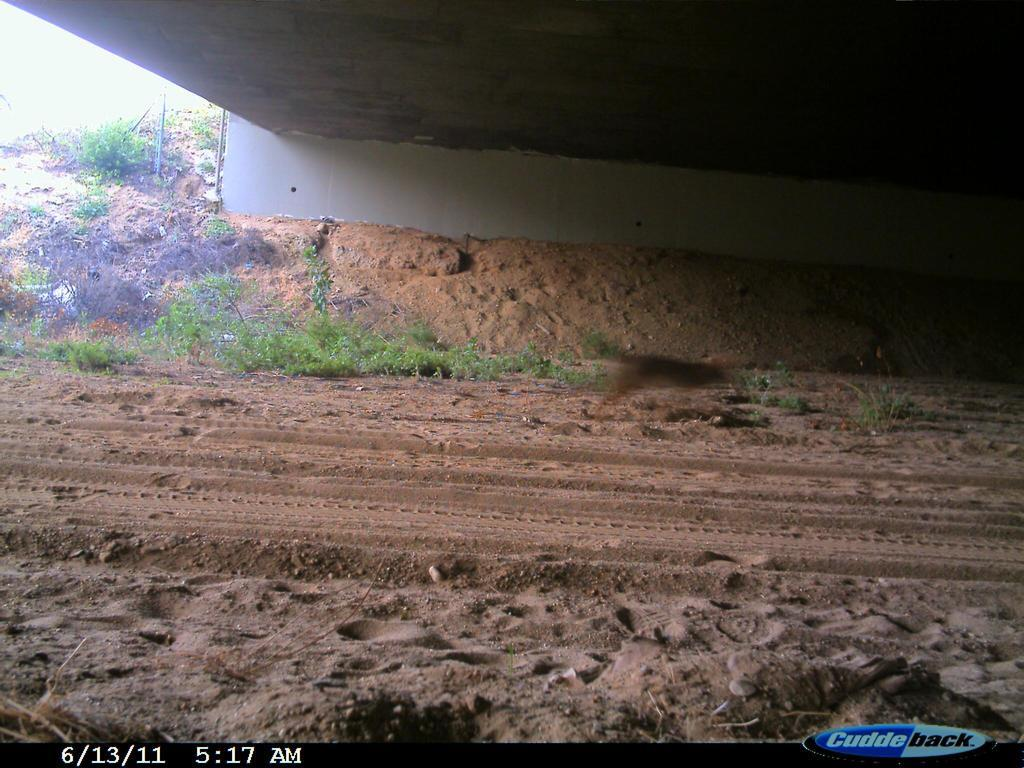coyote: (575, 333, 767, 423)
